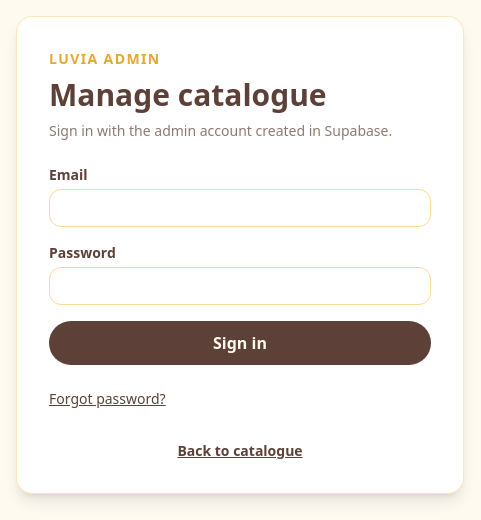
Test case: shows reset errors without exposing whether the account exists
Click the button "Forgot password?": (107, 399) [49,377,166,421]
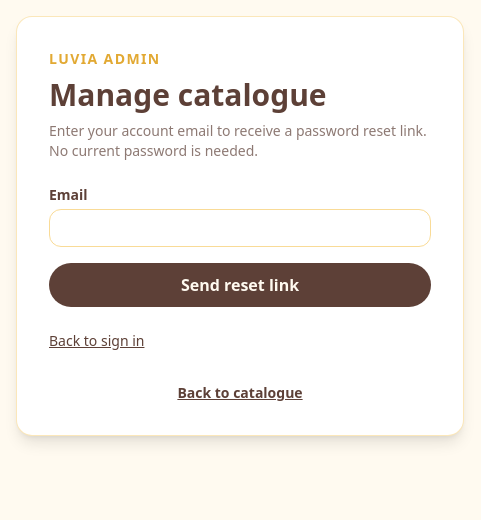
In the field labelled "Email": (240, 228) [49,209,431,247], type "admin@example.test"
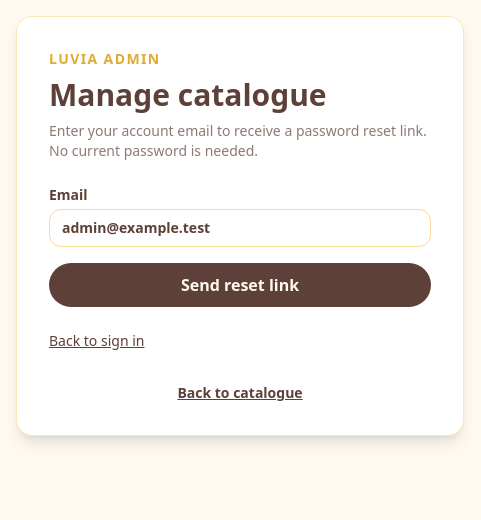
Submit the form named "Admin forgot password", box [49,185,431,307]
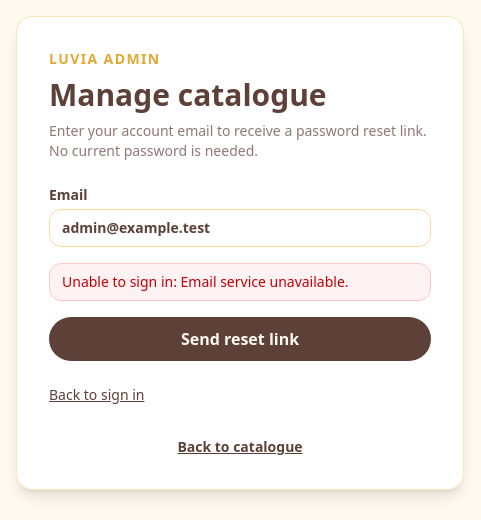
Result: the message shows "Email service unavailable." at [62,272,349,291]
